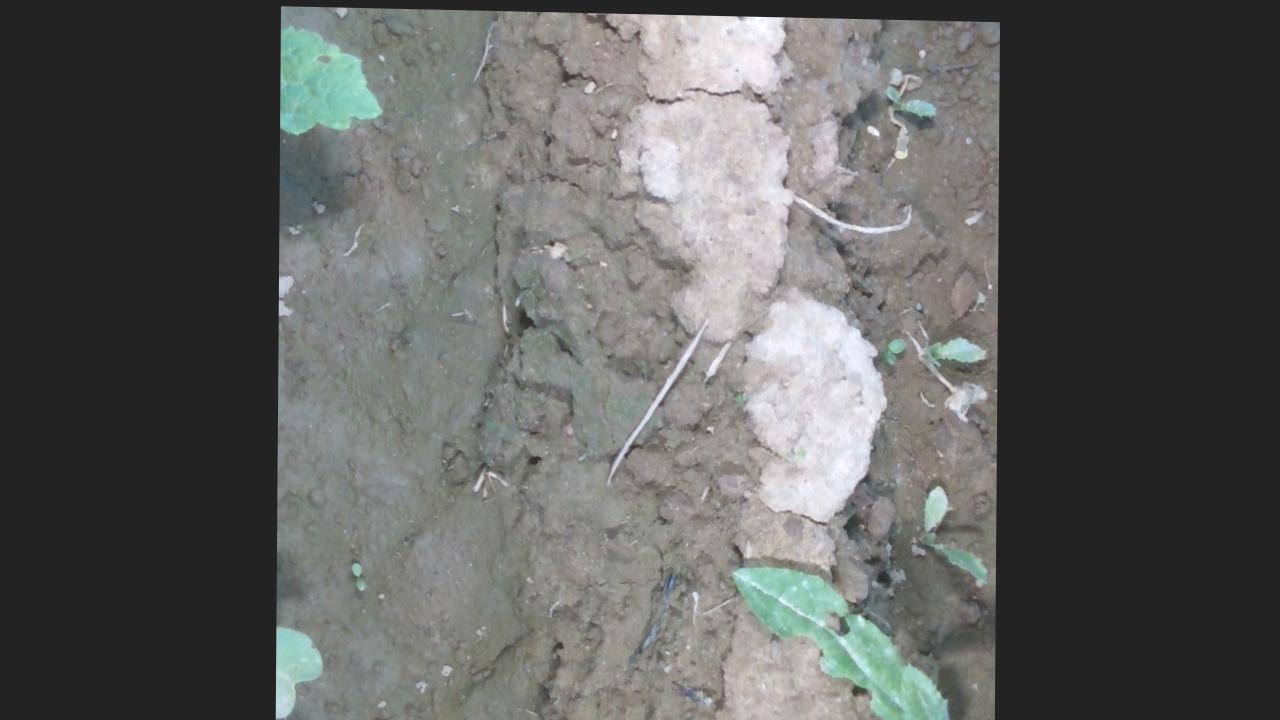weed: (885, 332, 908, 361)
